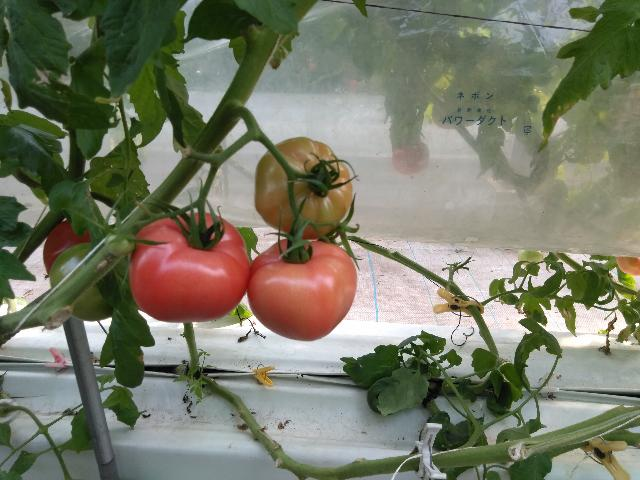b_fully_ripened: (128, 211, 249, 323), (42, 218, 92, 276)
b_green: (50, 243, 130, 321), (105, 232, 136, 256), (517, 249, 543, 267)
b_half_ripened: (247, 238, 359, 342), (254, 136, 353, 240), (616, 256, 640, 276)
